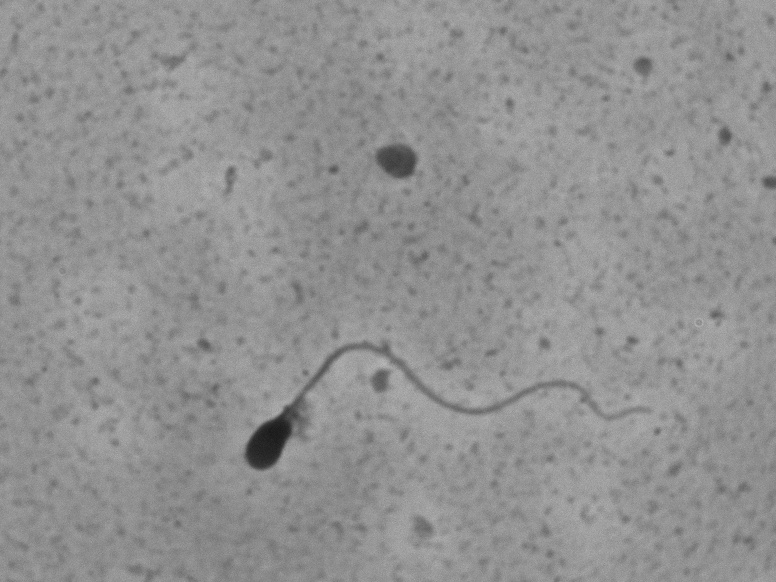Abnormal: (204, 275, 668, 530)
